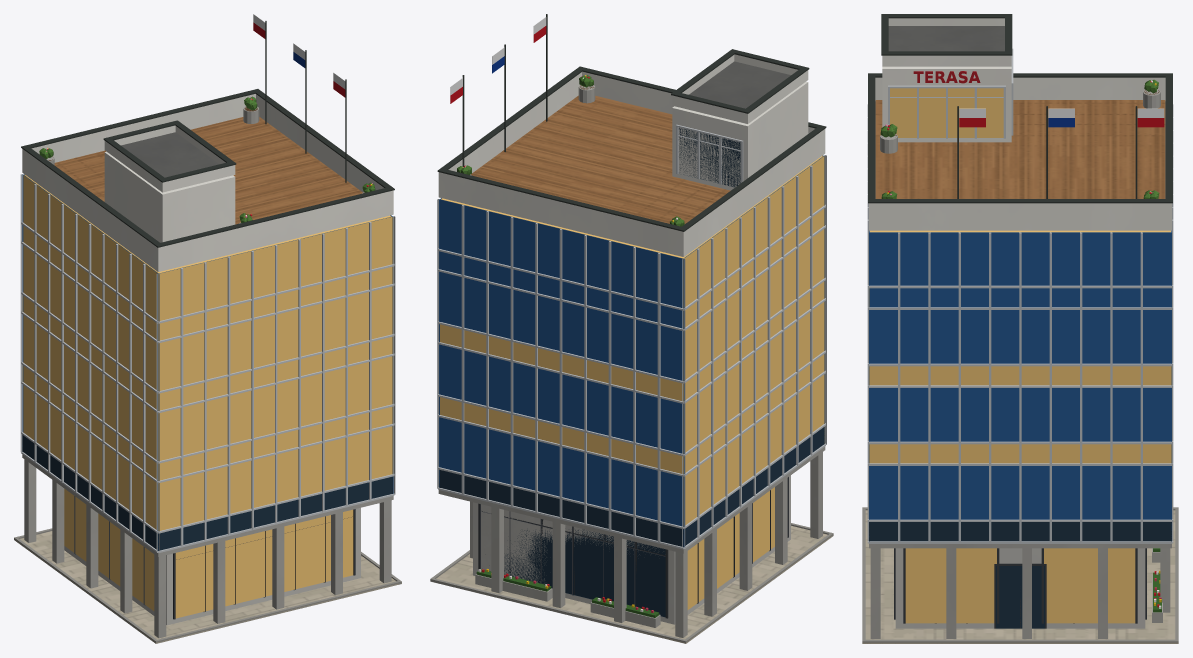
The model's file is dum_04_velky.glb.
3 renders of one model, left to right at view 1: azimuth 30°, elevation 25°; view 2: azimuth 150°, elevation 25°; view 3: azimuth 270°, elevation 25°, orthographic. The views are drawn at different scales.
Visible parts, largest first — view 1: noc, dum; view 2: dum, noc; view 3: dum, noc.
Boxes of the visible parts, x1=… form: noc: x1=22, y1=174, x2=393, y2=618; dum: x1=14, y1=14, x2=401, y2=643; dum: x1=430, y1=14, x2=833, y2=643; noc: x1=440, y1=155, x2=824, y2=609; dum: x1=862, y1=14, x2=1178, y2=643; noc: x1=869, y1=88, x2=1171, y2=623.
Bounding box in the file's own units: 12.48 × 23.07 × 12.48.
Materials: 1 (1 with a texture image).
